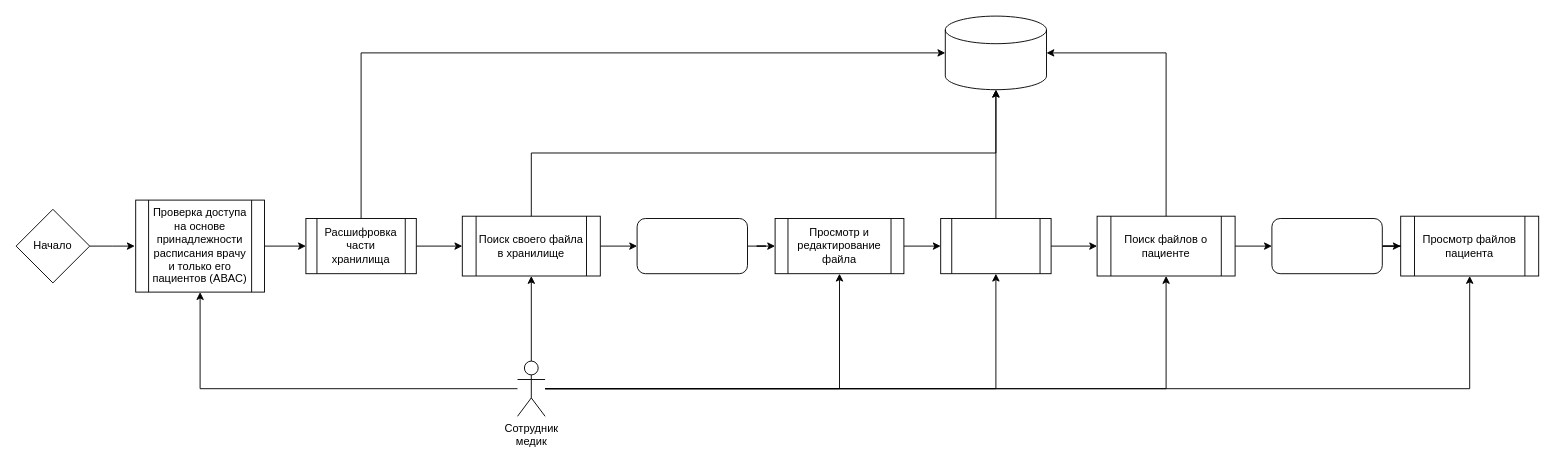
Some shapes in this 1555 by 466 pixel diagram are drawn without their labels. Here are the shapes that lost their labels. From the top down, the centre of each, then its label:
At [995,52]: "Хранилище с файлами".
At [692,246]: "Файл с данными о записях пациентов".
At [995,246]: "Сохранение расписания".
At [1326,246]: "Файл пациента".
